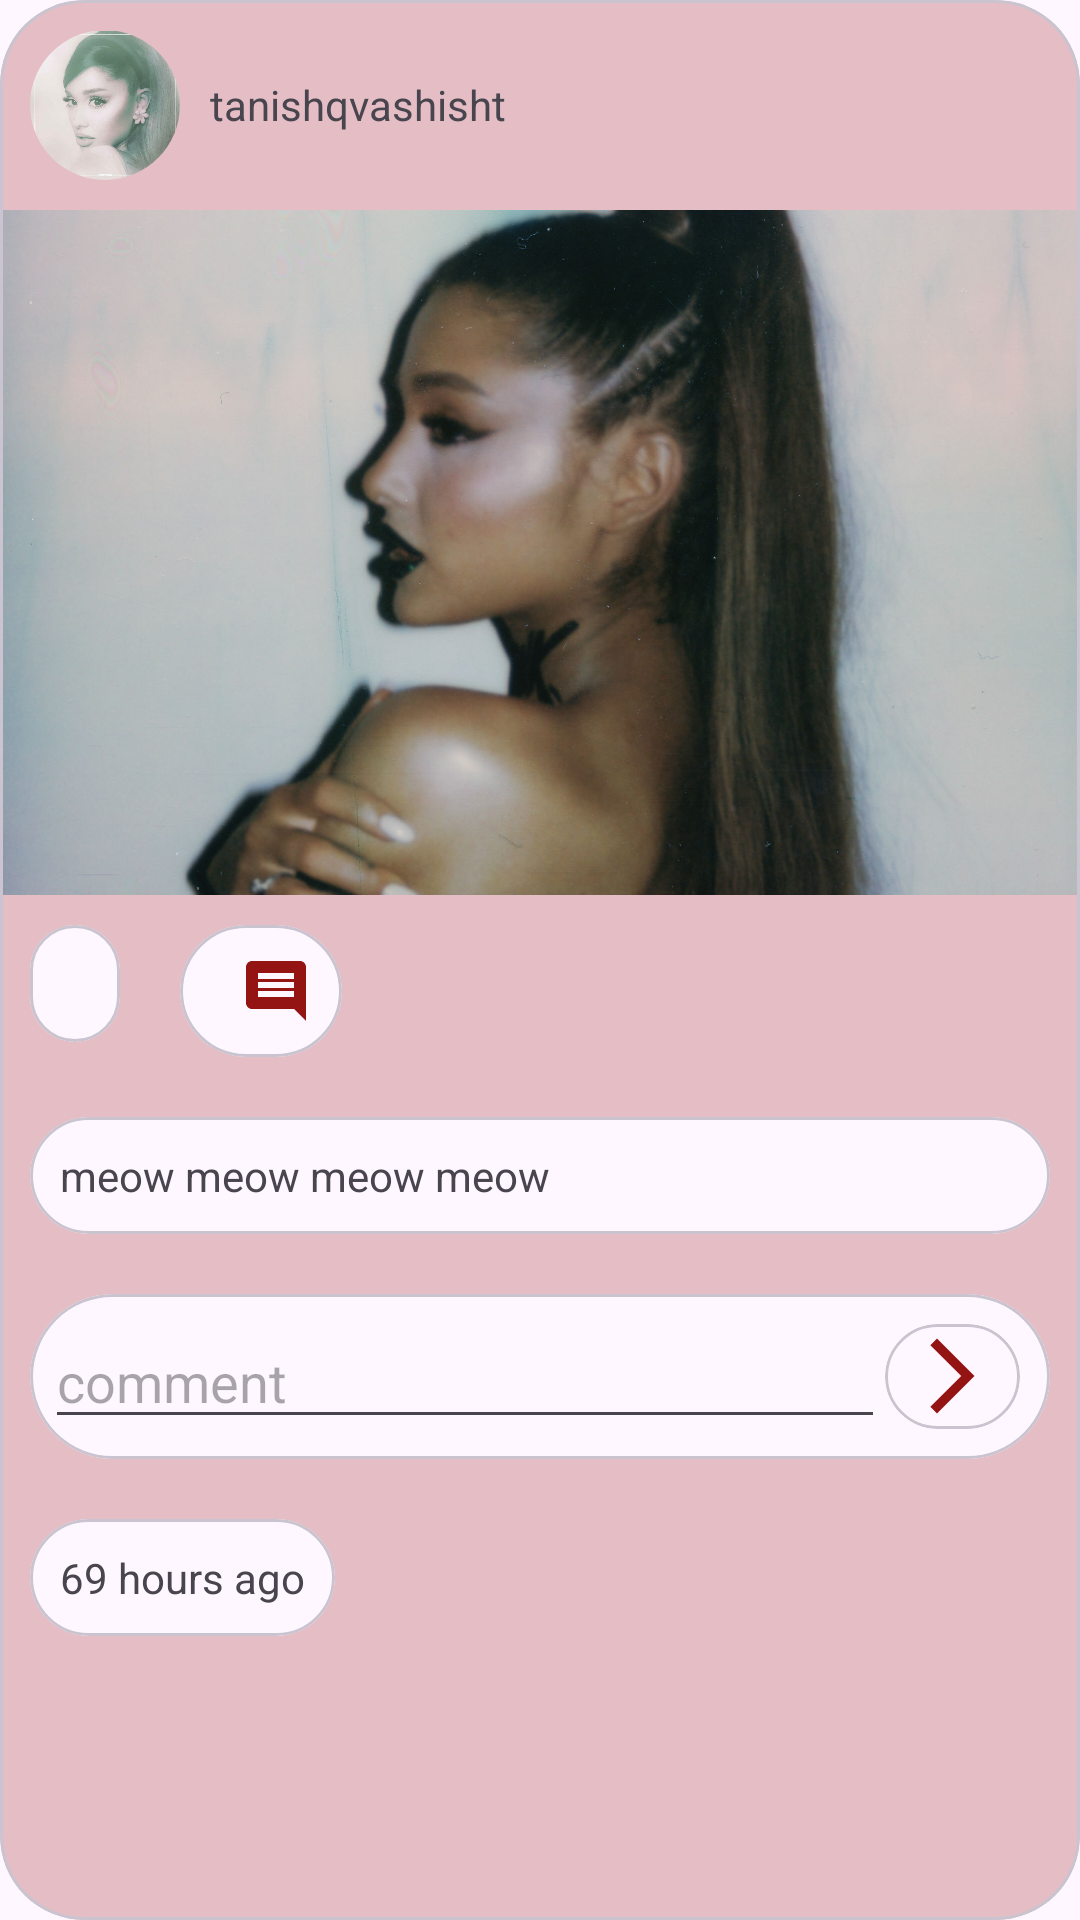

Screen size 1080*1920. Icon name, then its box in pixels as (left=x1, top=y1, right=x2, bottom=y2):
arrow forward: (left=930, top=1338, right=975, bottom=1414)
comment: (left=246, top=961, right=306, bottom=1021)
